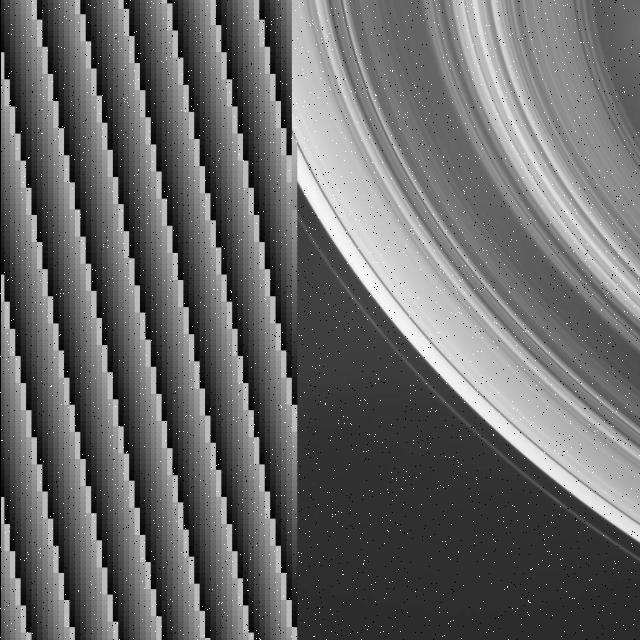Saturn: (298, 0, 640, 569)
